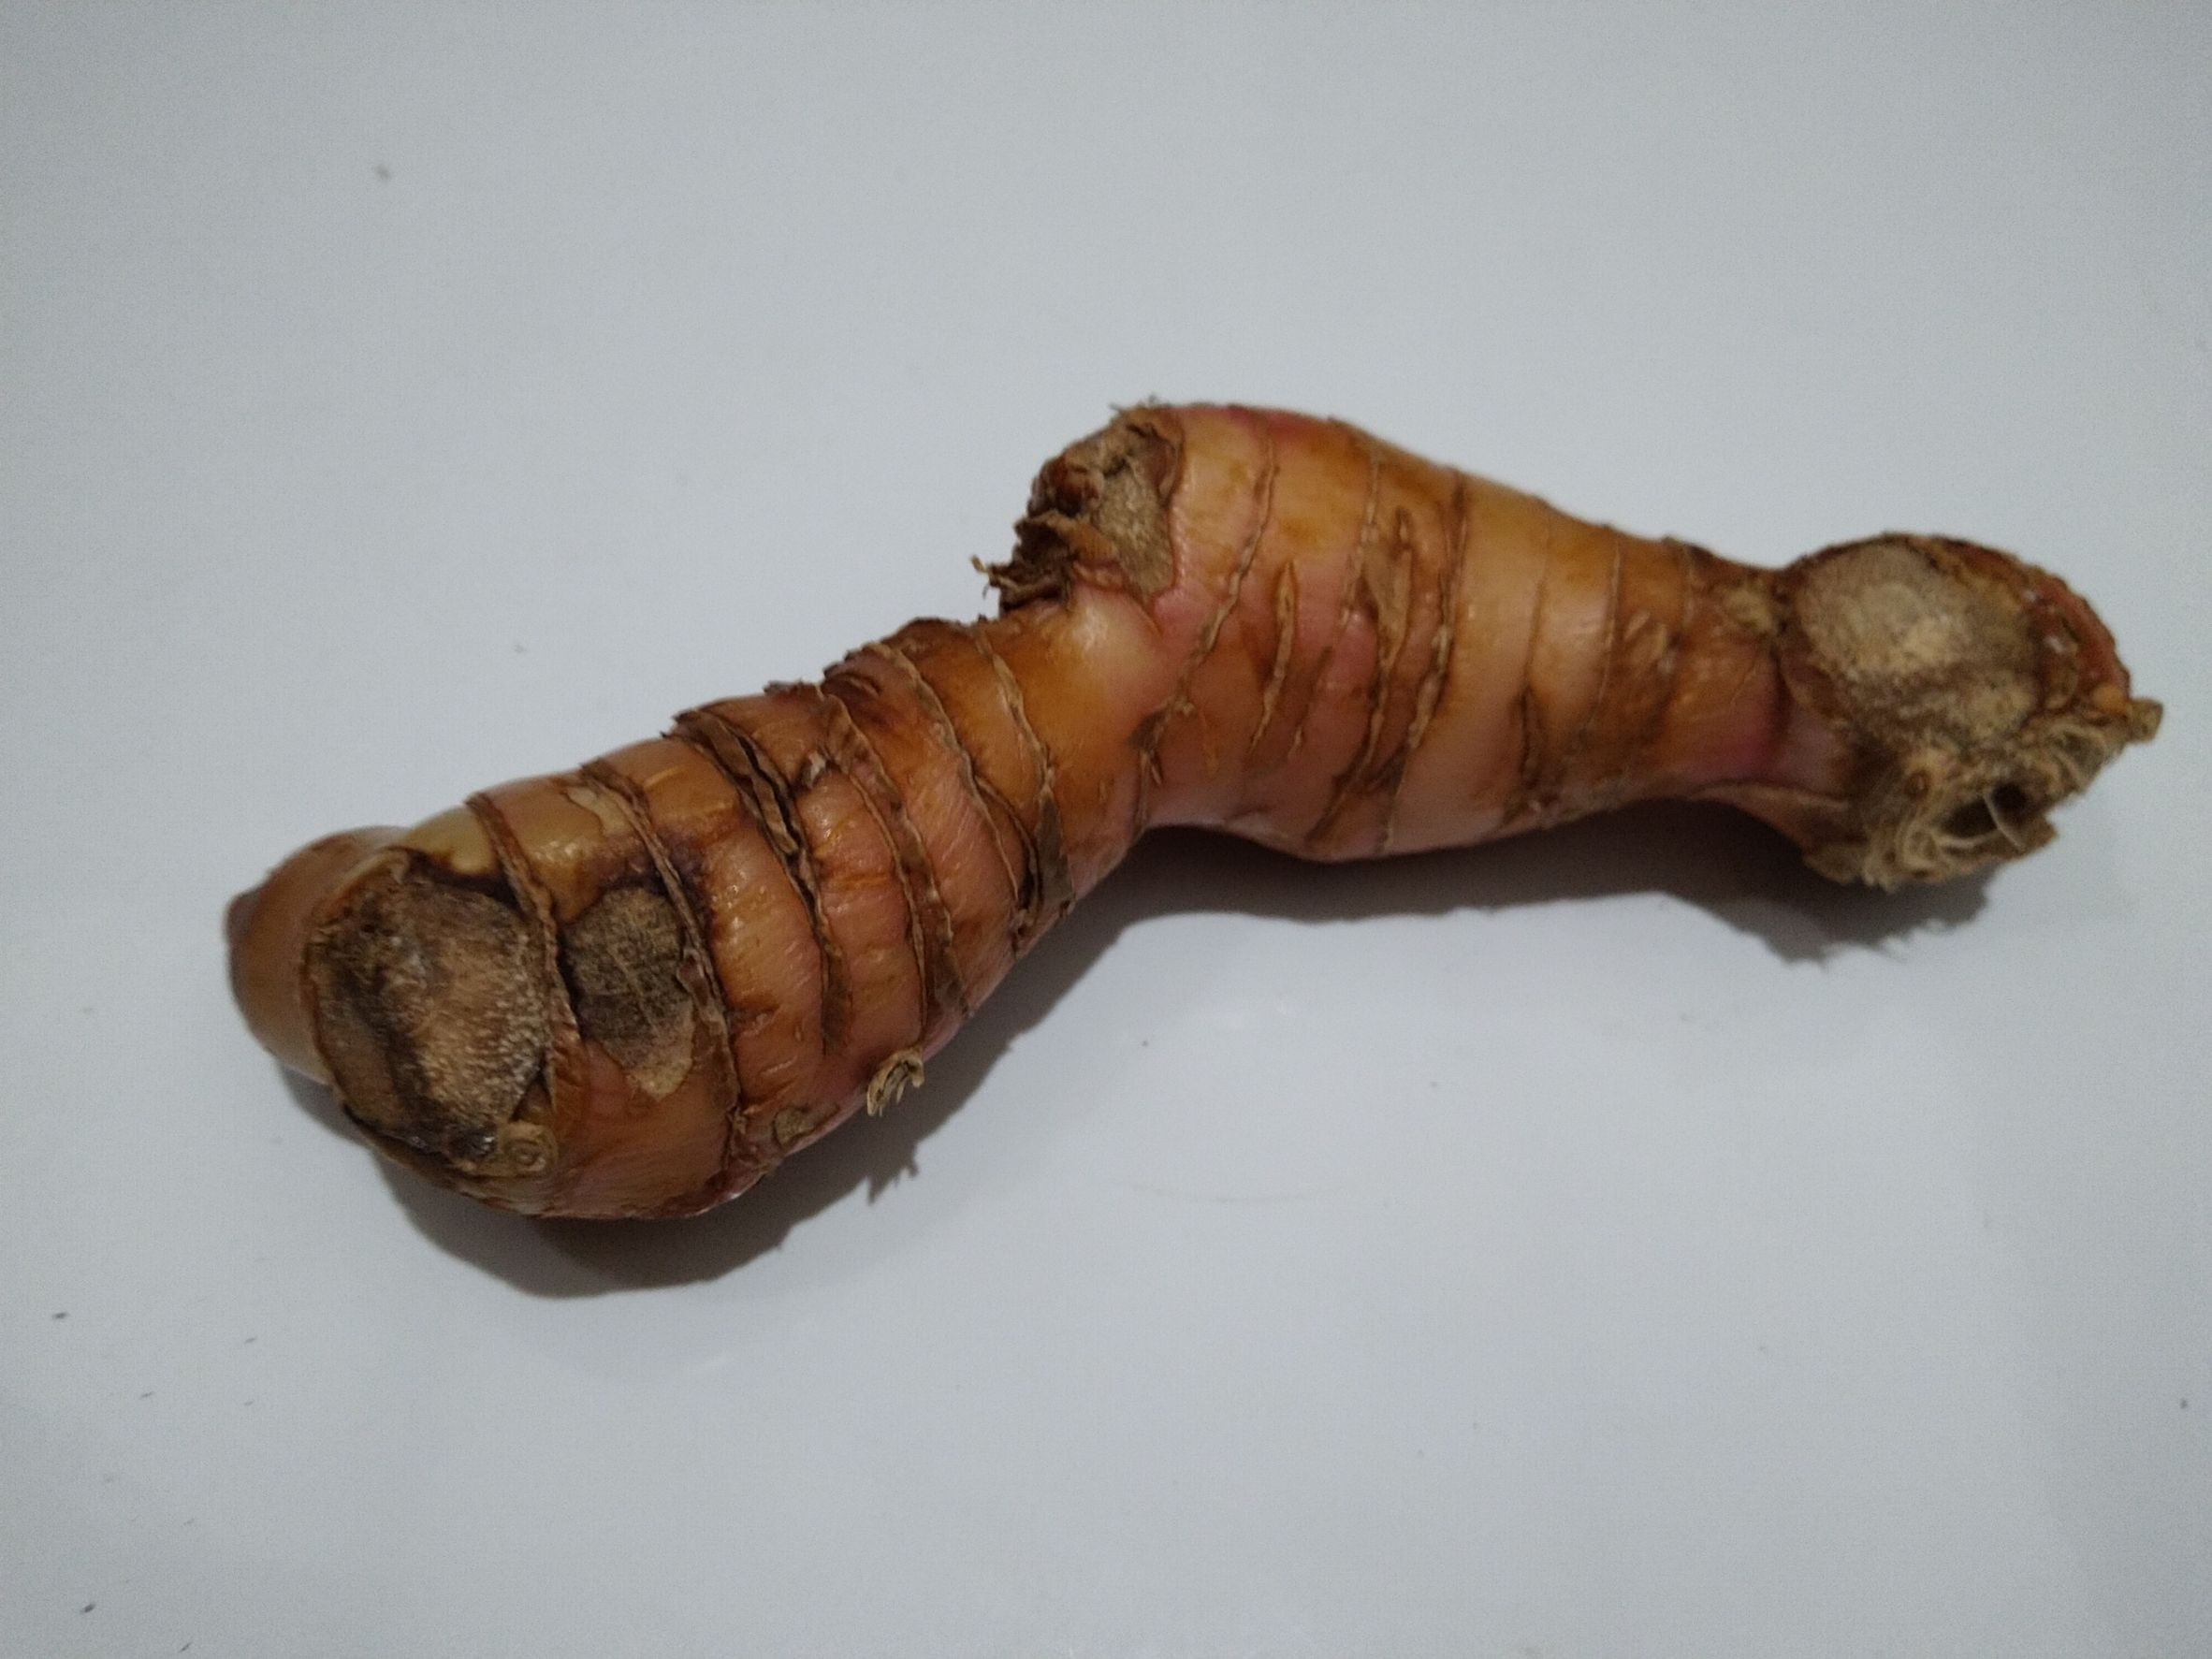Lengkuas: (218, 394, 2155, 1223)
